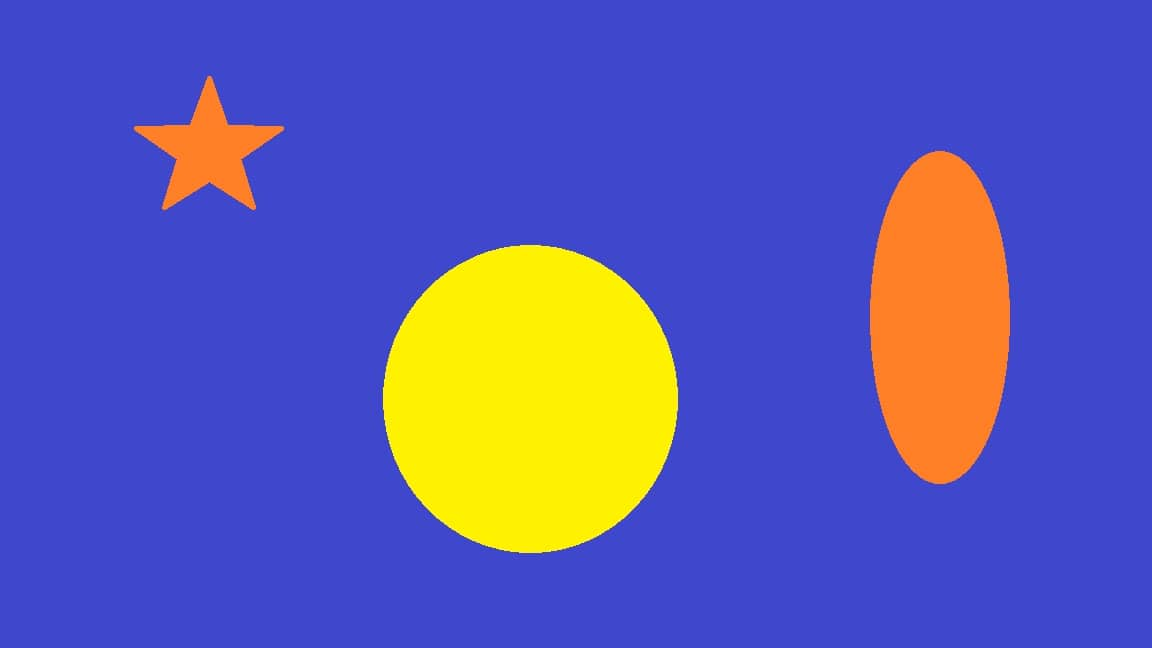Oval: (384, 241, 675, 554), (867, 146, 1016, 486)
Star: (130, 74, 278, 209)
